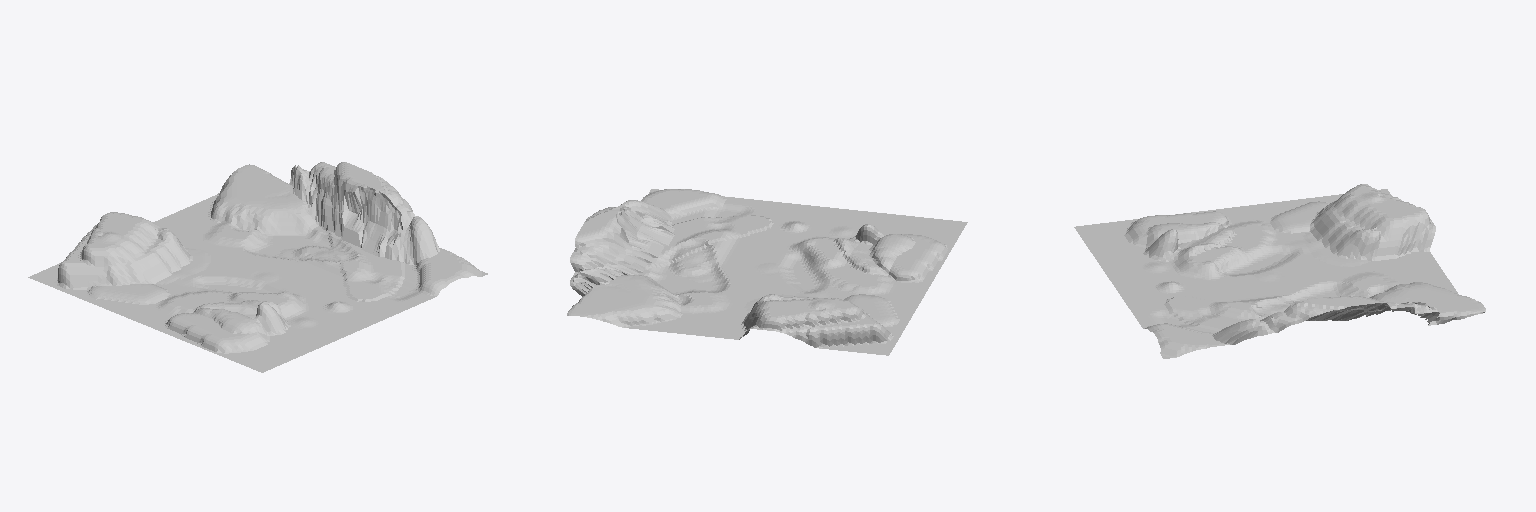
Rendered from terrain2.obj.
3 views of the same model, side by side, from view 1: azimuth 30°, elevation 25°; view 2: azimuth 150°, elevation 25°; view 3: azimuth 270°, elevation 25° (orthographic).
Size of the model in its own units: 49.48 by 6 by 50.6.